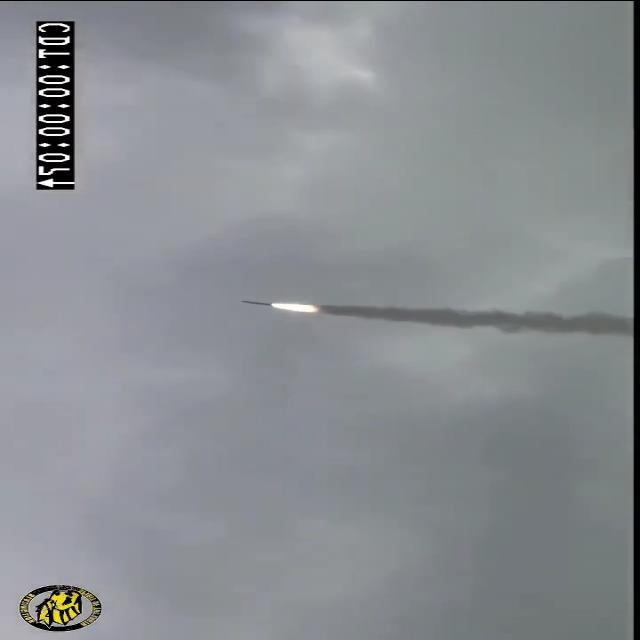missile: (235, 298, 282, 308)
